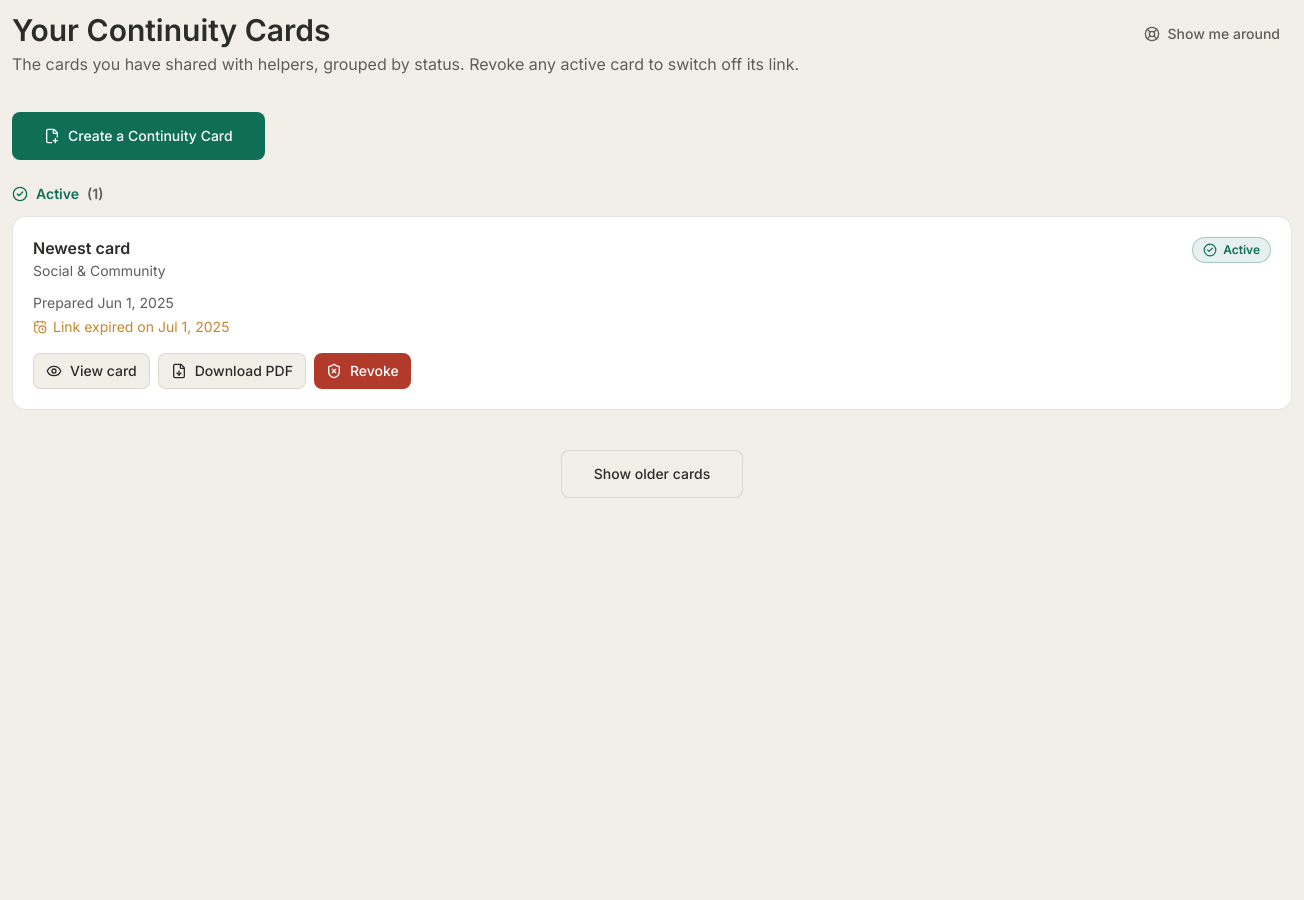
Test case: CardHistoryList › offers 'Show older cards' only when the api signals more, and fetches the next page
Expected: the heading "Newest card" is shown, [33,238,130,258]
... and tapping it fetches the next page with the previous page's cursor as `before`.
Click the button "Show older cards": (652, 474) [561,450,743,498]
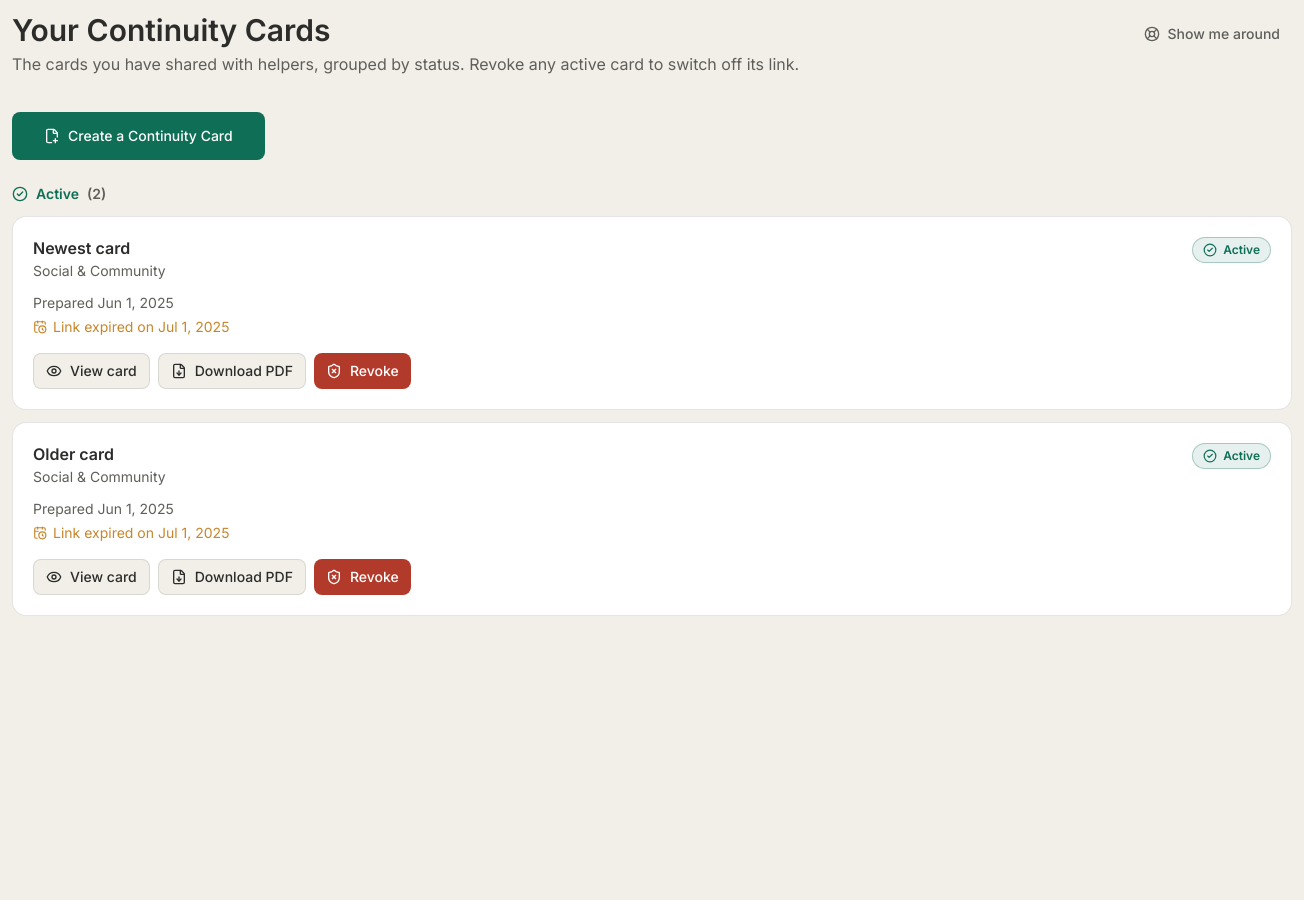
Expected: the heading "Older card" is shown, [33,444,114,464]
Now the button "Show older cards" is gone
